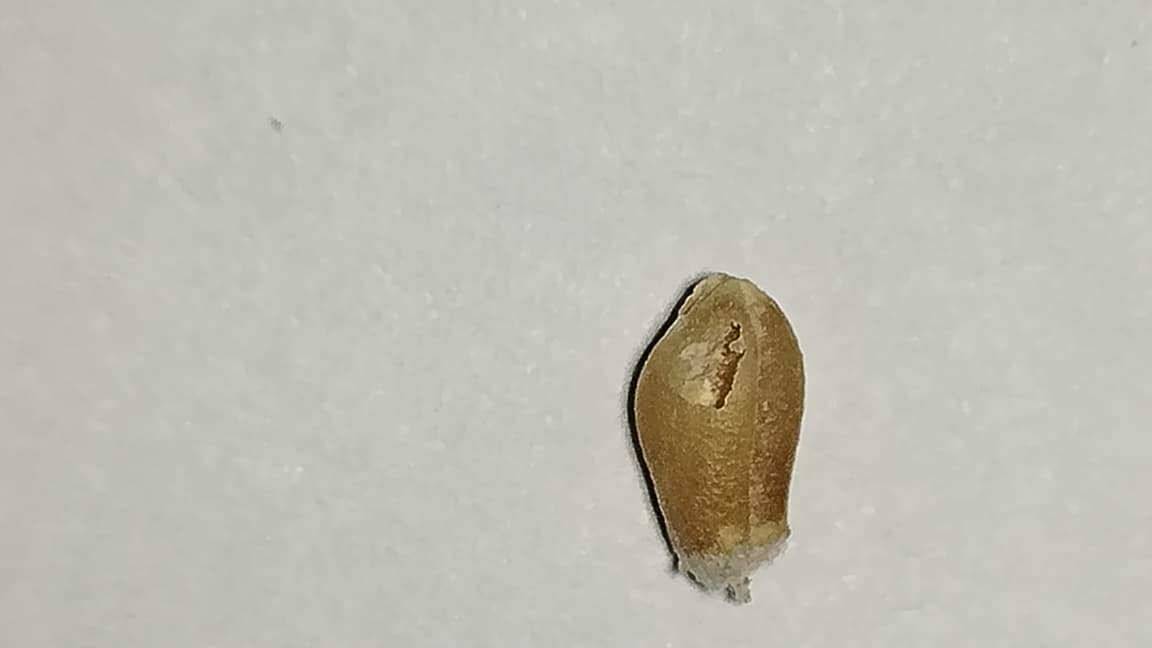damage: (634, 273, 803, 588)
insectdamage: (669, 311, 744, 409)
molddamage: (687, 510, 790, 603)
